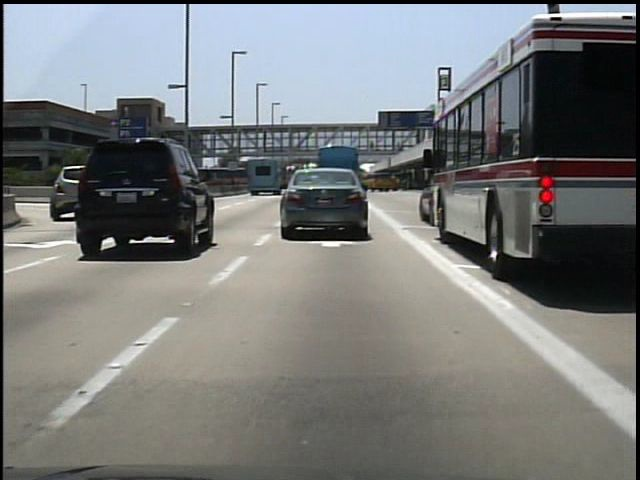person: (393, 135, 407, 157), (366, 136, 379, 157)
